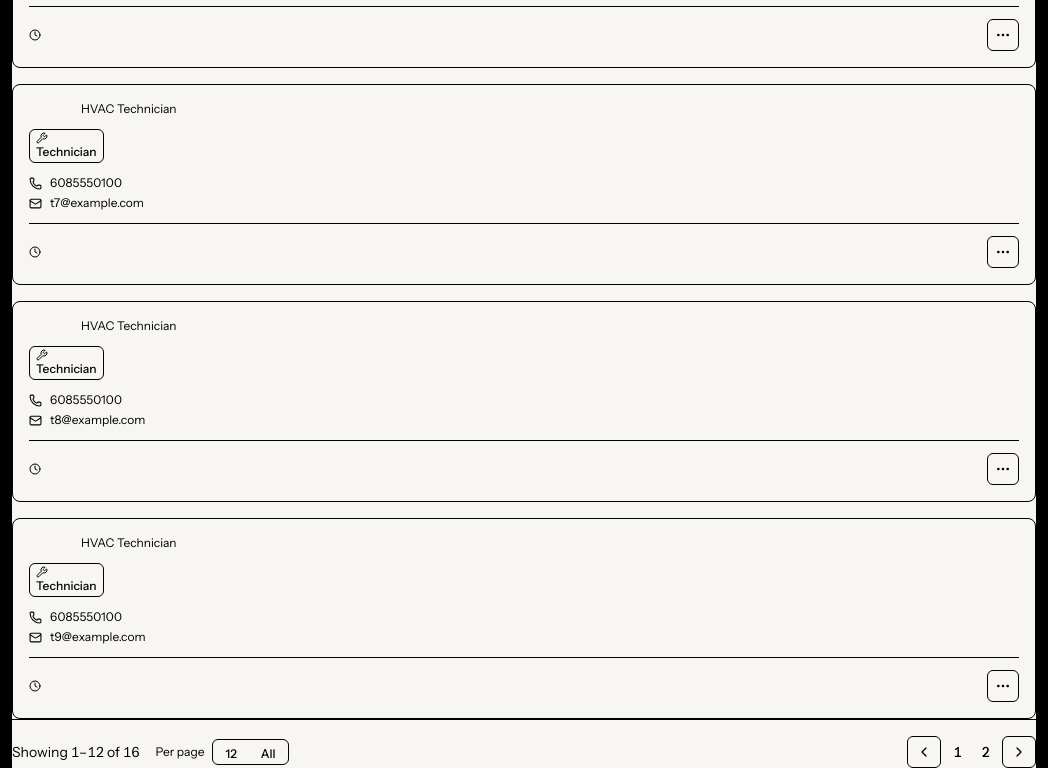
Test: UsersSection › All page size shows every user and drops page navigation
(page scrolled)
What coordinates should you click on to do the following:
click the button "All"
I would click on:
 (268, 754)
Its box is [249, 746, 288, 762].
(page scrolled)
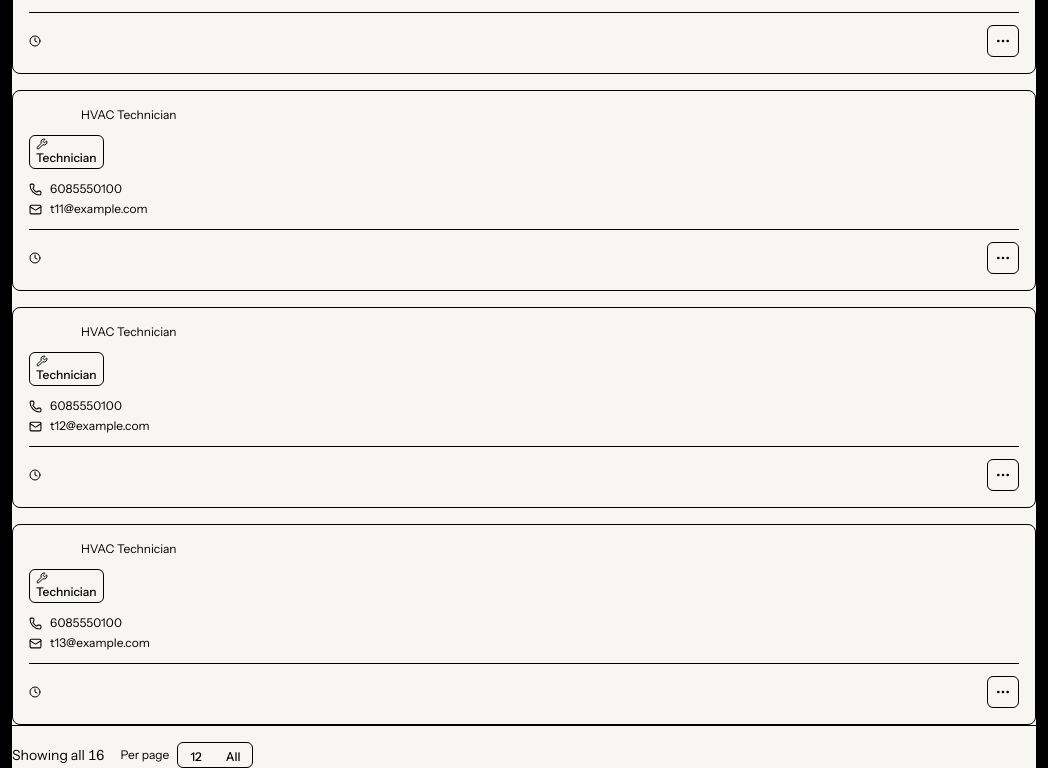
Expected: the text "Showing all 16" is shown, [12, 745, 104, 765]
